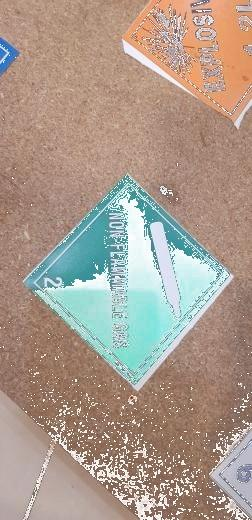explosive: (119, 1, 252, 125)
non-flammable-gas: (22, 173, 236, 394)
